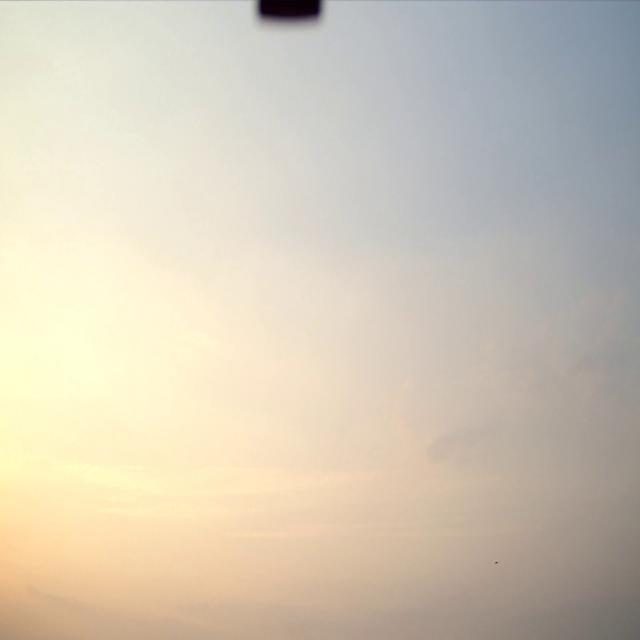UAV: (495, 560, 499, 564)
